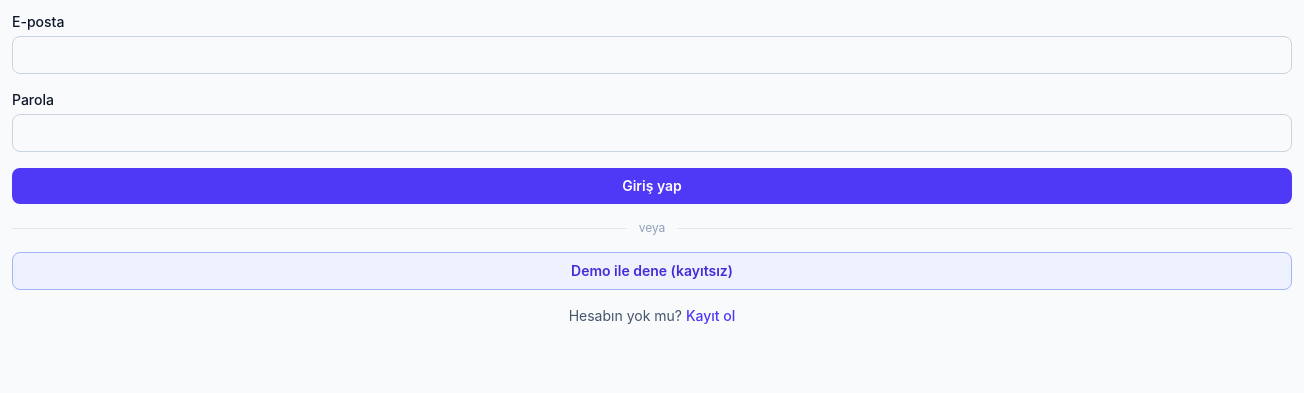
Test: AuthForm › sunucuya hiç ulaşılamazsa anlaşılır bir mesaj gösterir
Type "ali@example.com" into the field labelled "E-posta" at (652, 55), box [12,36,1292,74]
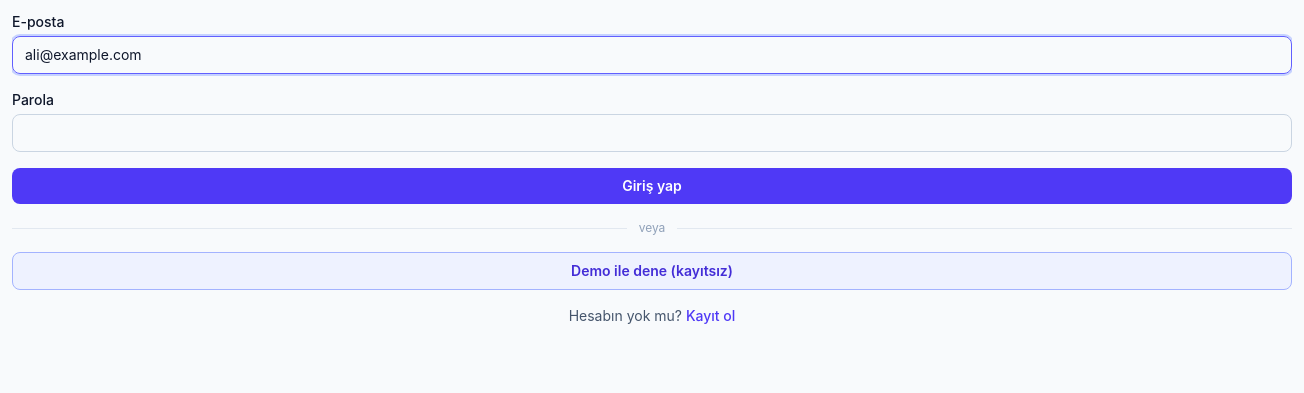
Type "gizli-parola" into the password field labelled "Parola" at (652, 133), box [12,114,1292,152]
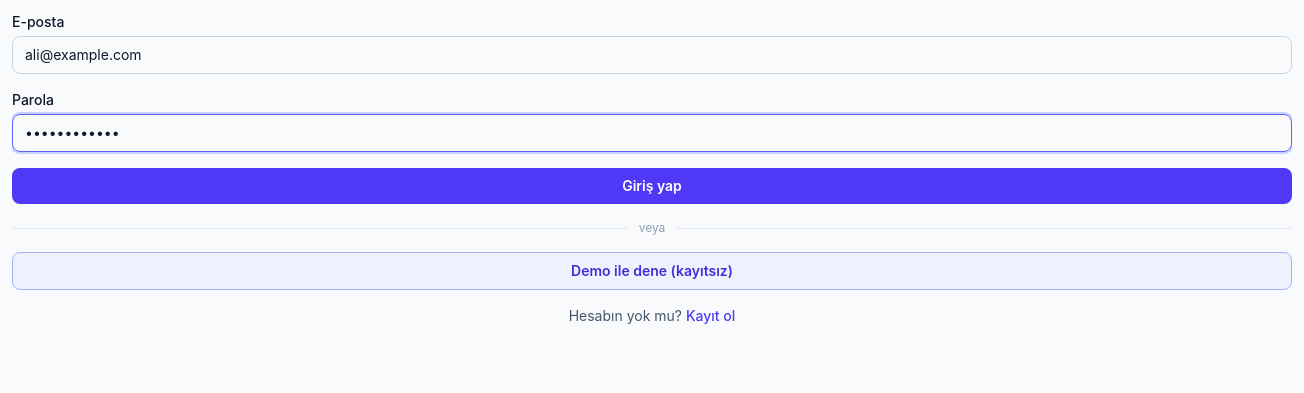
Click the button "Giriş yap" at (652, 186), box [12,168,1292,204]
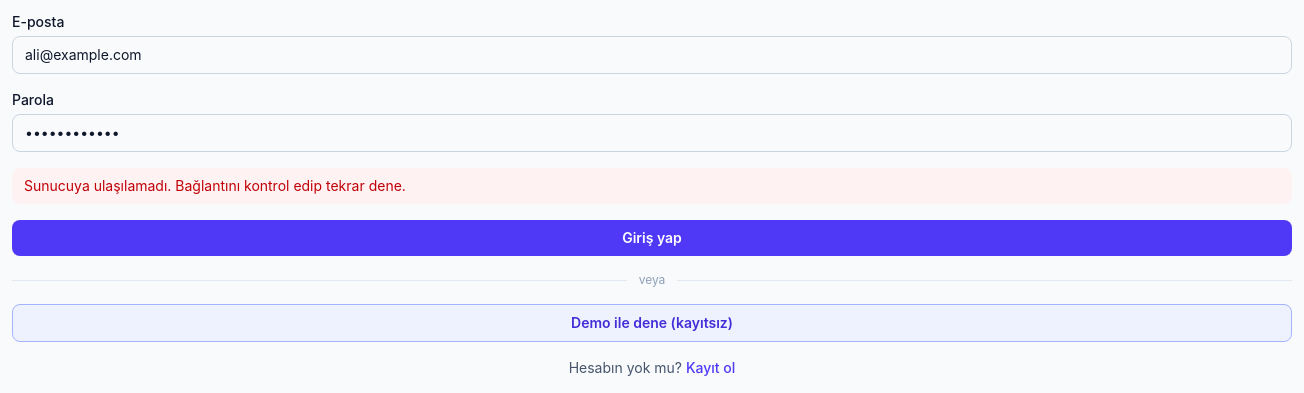
Expected: the message shows "Sunucuya ulaşılamadı", [24,177,406,194]
